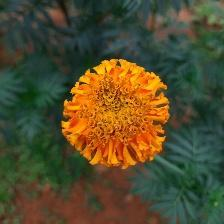marigold: (61, 58, 178, 162)
